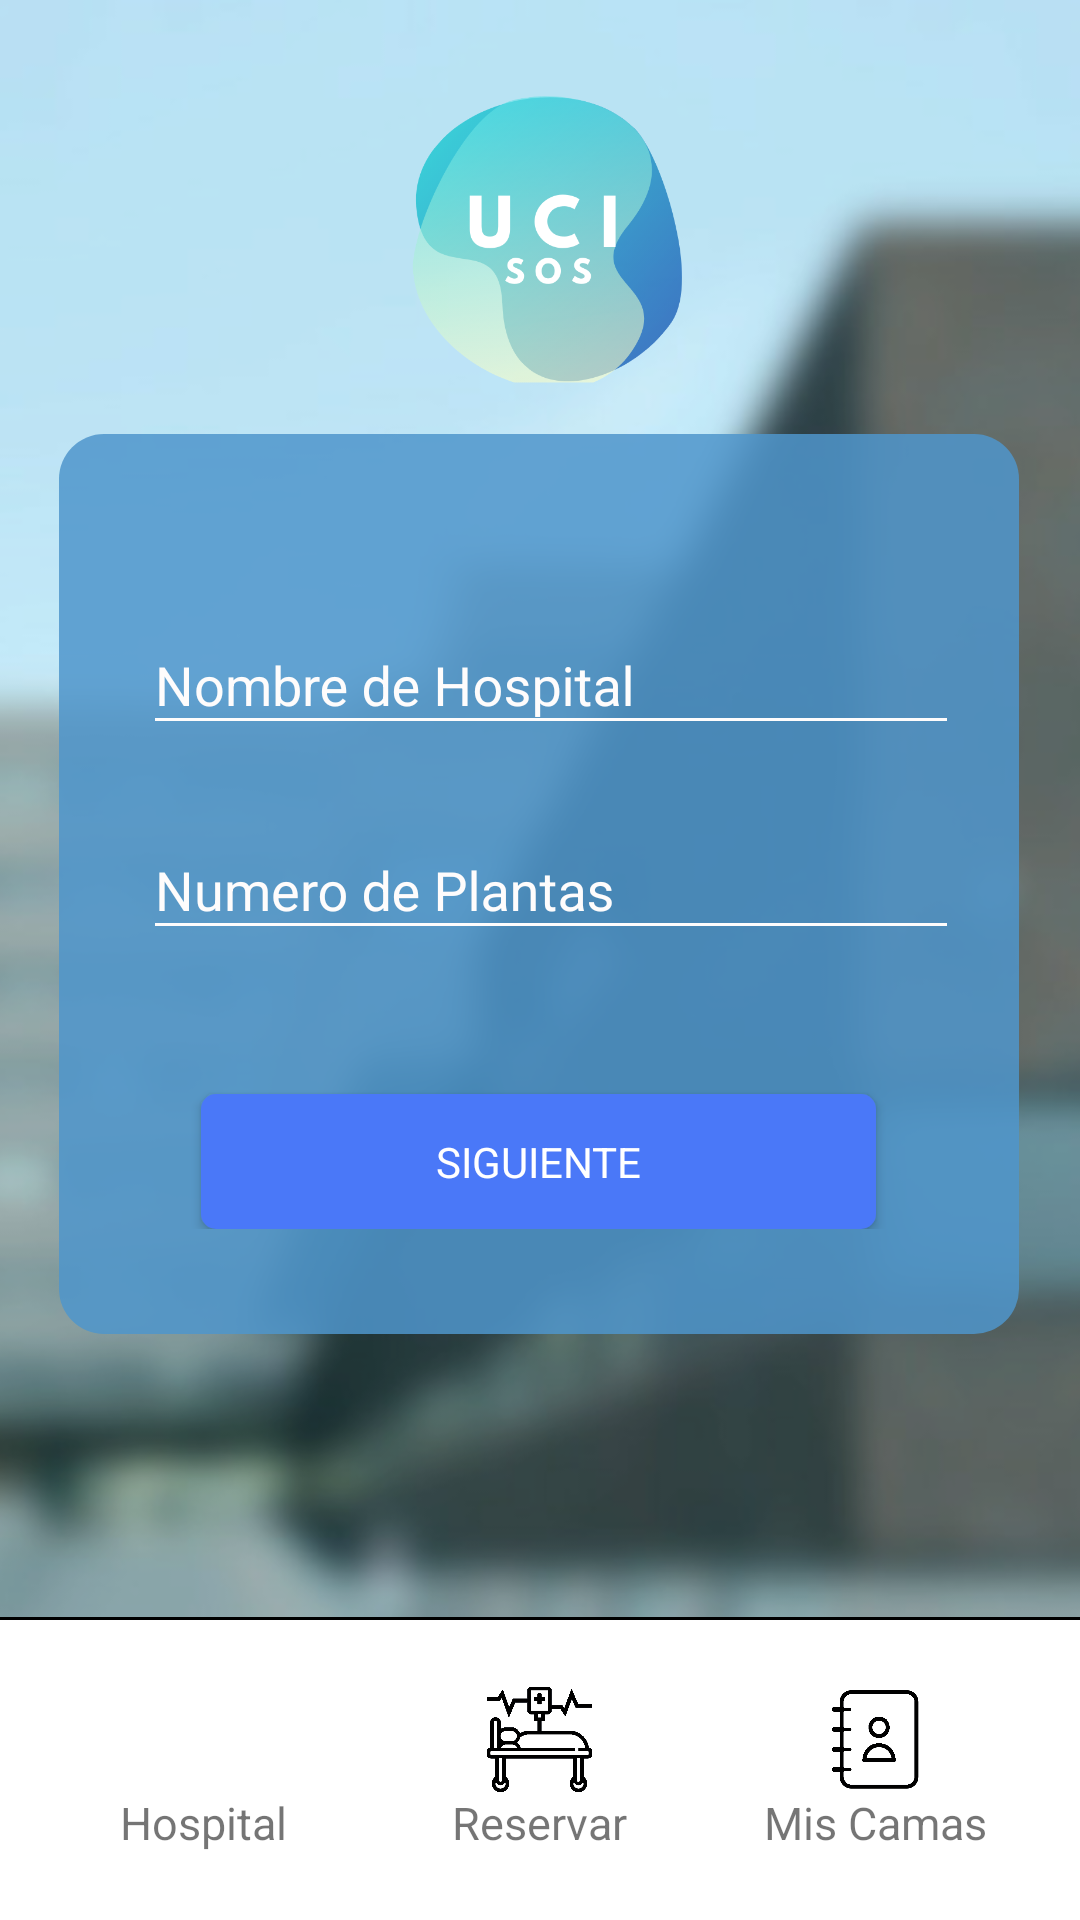

Icons on this 1080px×1920px Android screen, each with its box as (x1, y1, x2, y2):
"icono del menú con una agenda blanca: (832, 1690, 919, 1789)
icono del menú con una camilla blanca: (487, 1687, 592, 1792)
